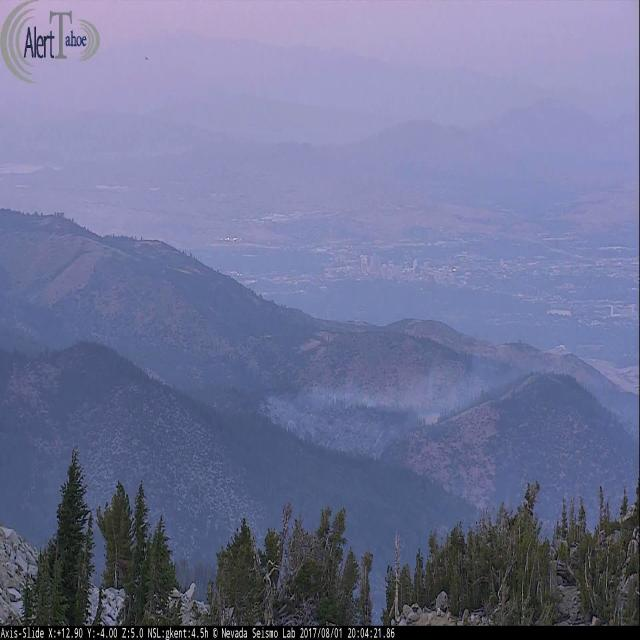smoke: (260, 335, 640, 461)
